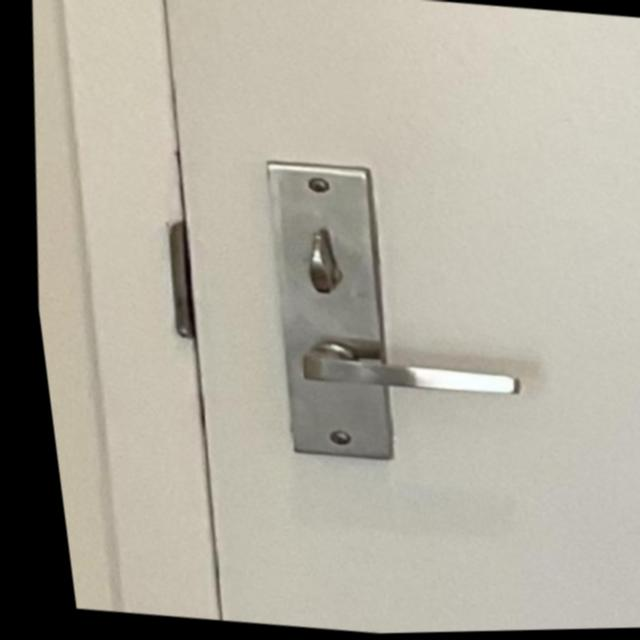door_handle: (257, 322, 528, 426)
